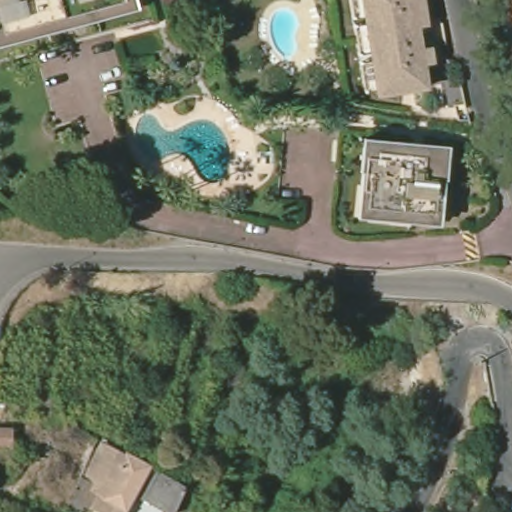pool: (136, 113, 235, 184), (269, 6, 306, 61)
